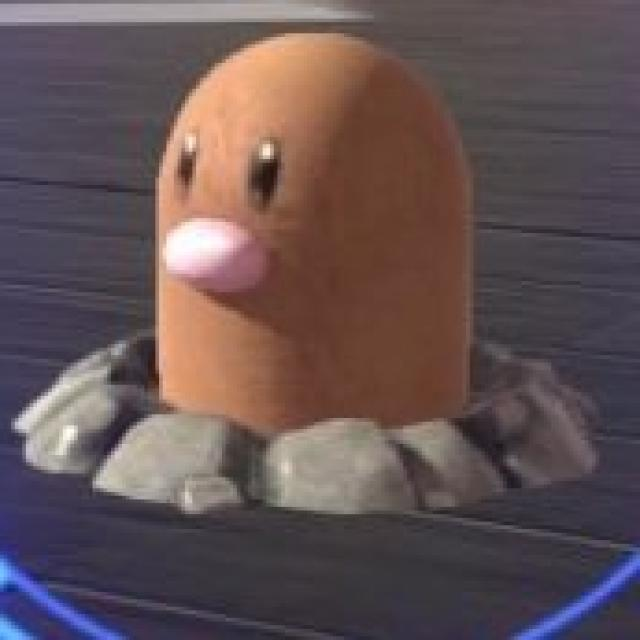Diglett: (144, 26, 478, 469)
